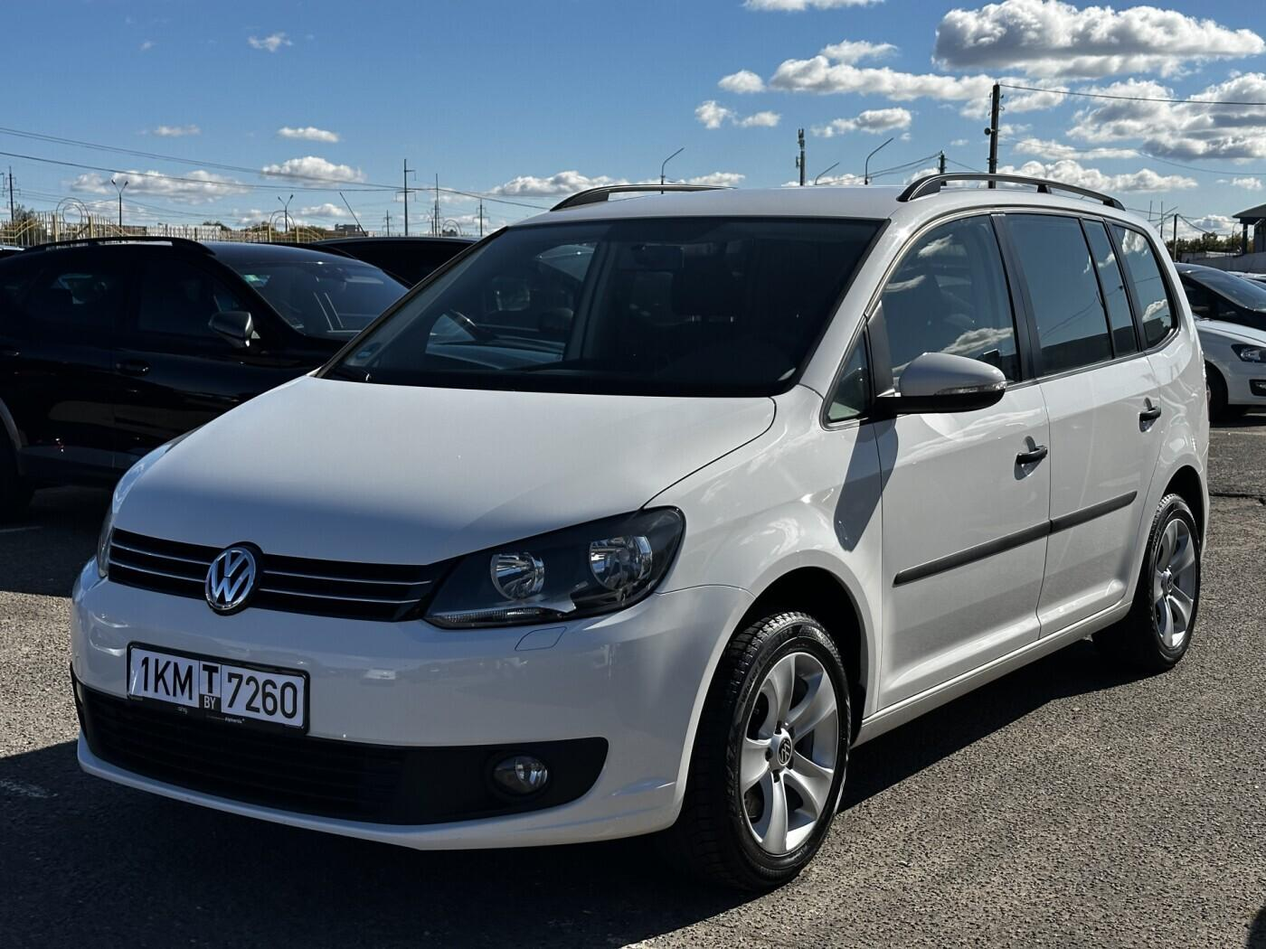Touran_2010-2015: (53, 164, 1218, 887)
